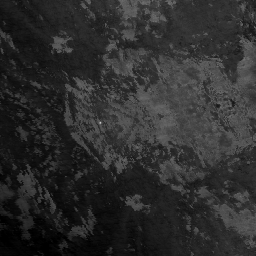Target: (96, 120, 102, 125)
